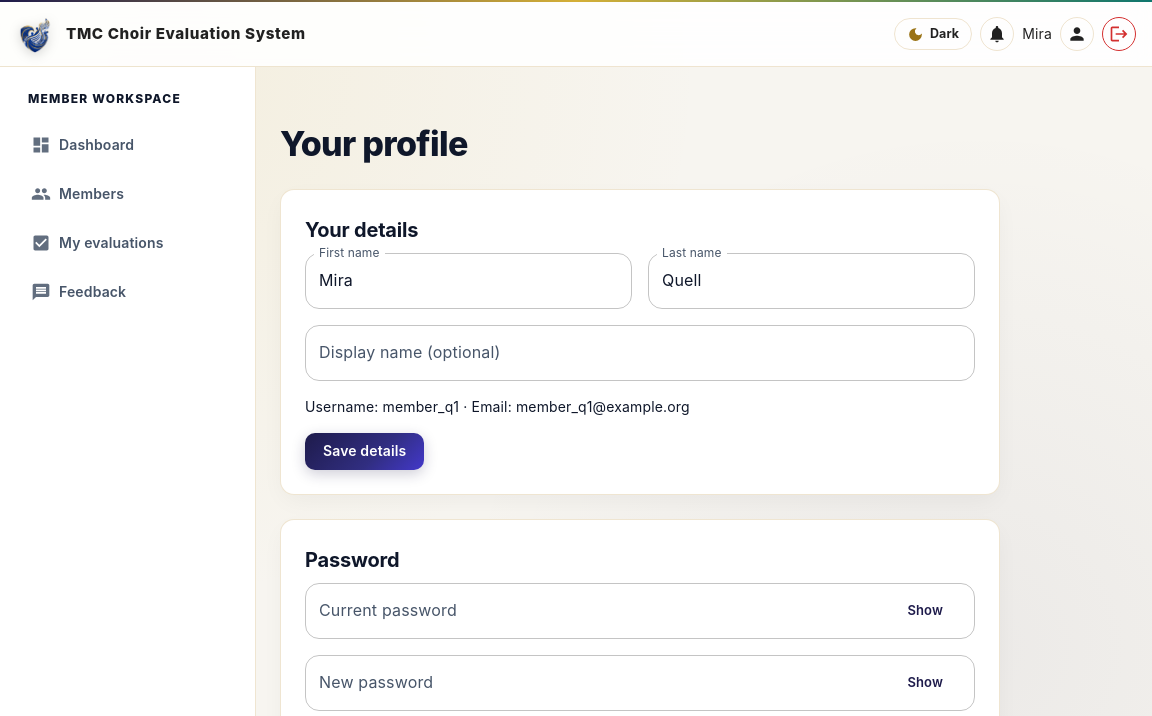
Test: ProfilePage › maps a wrong current password to its field
Type "nope-nope-1" into the password field labelled "Current password" at (593, 610), box [305,582,881,638]
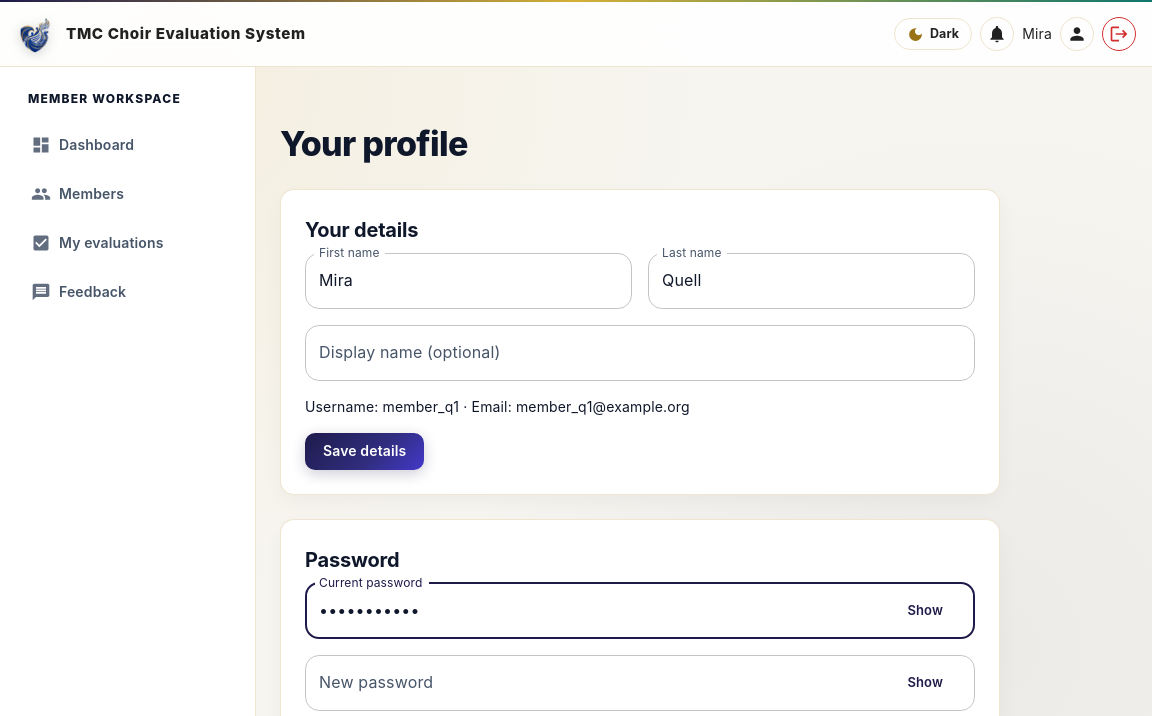
Type "Fresh-Harmony-2027" into the password field labelled "New password" at (593, 682), box [305,654,881,710]
(page scrolled)
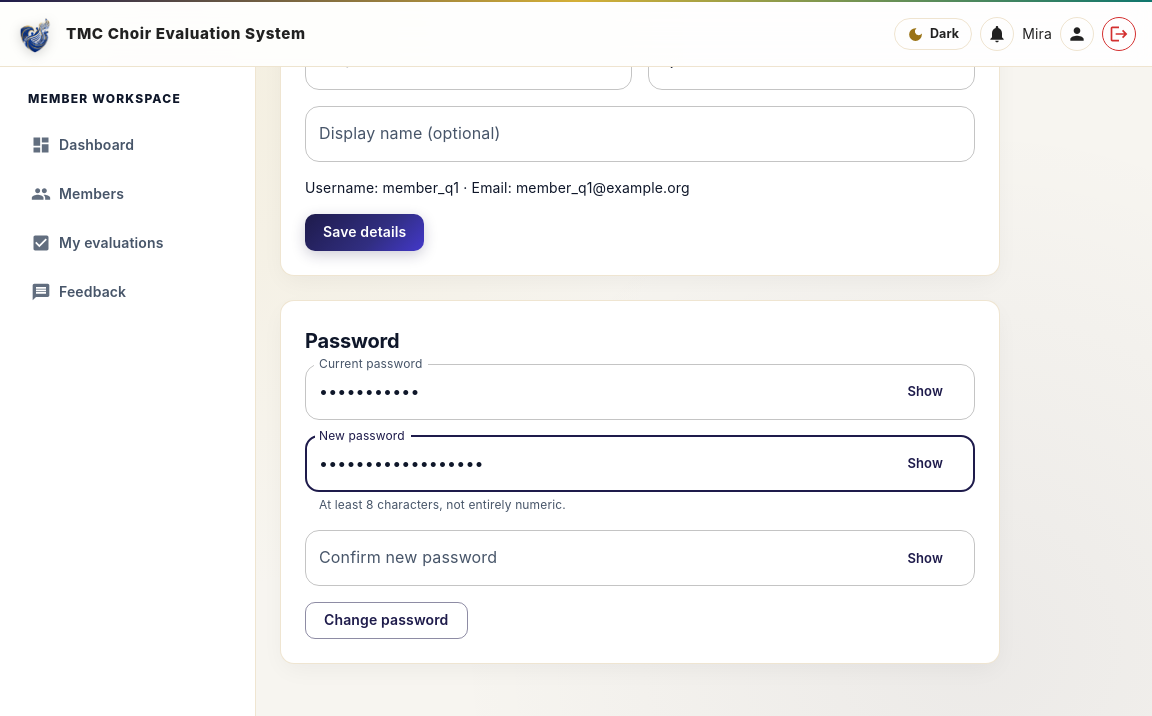
Type "Fresh-Harmony-2027" into the password field labelled "Confirm new password" at (593, 558), box [305,530,881,586]
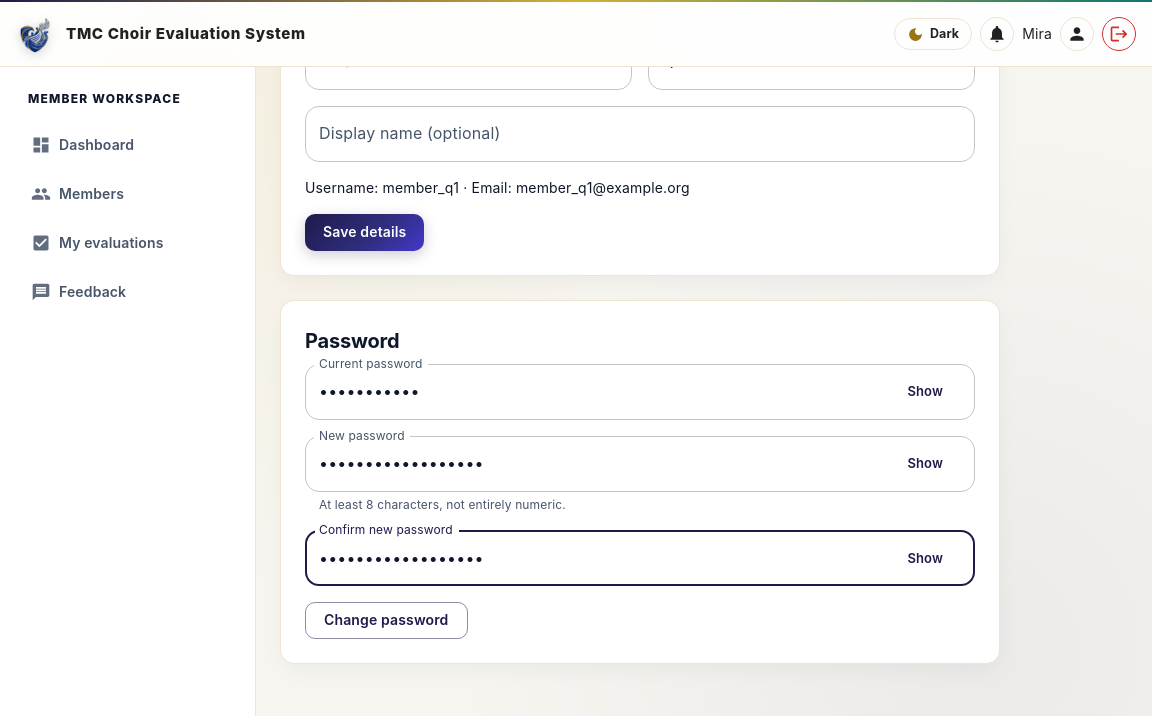
Click the button "Change password" at (386, 621), box [305,602,468,639]
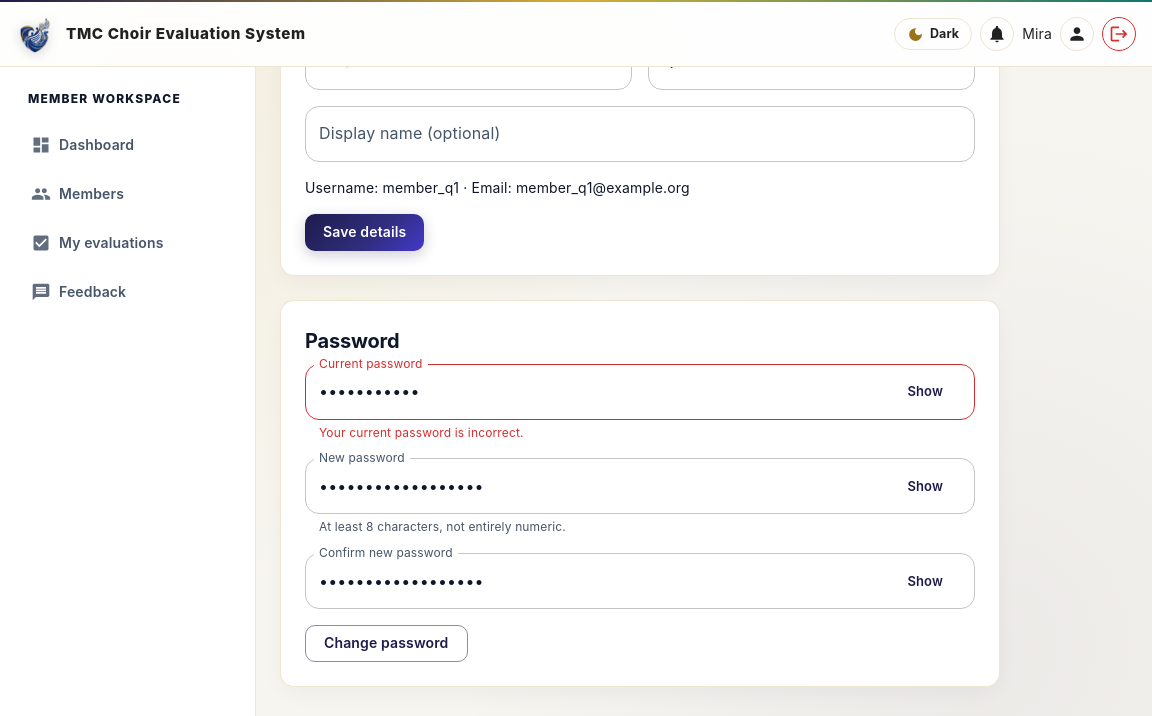
Expected: the text "Your current password is incorrect." is shown, [319,424,524,440]
